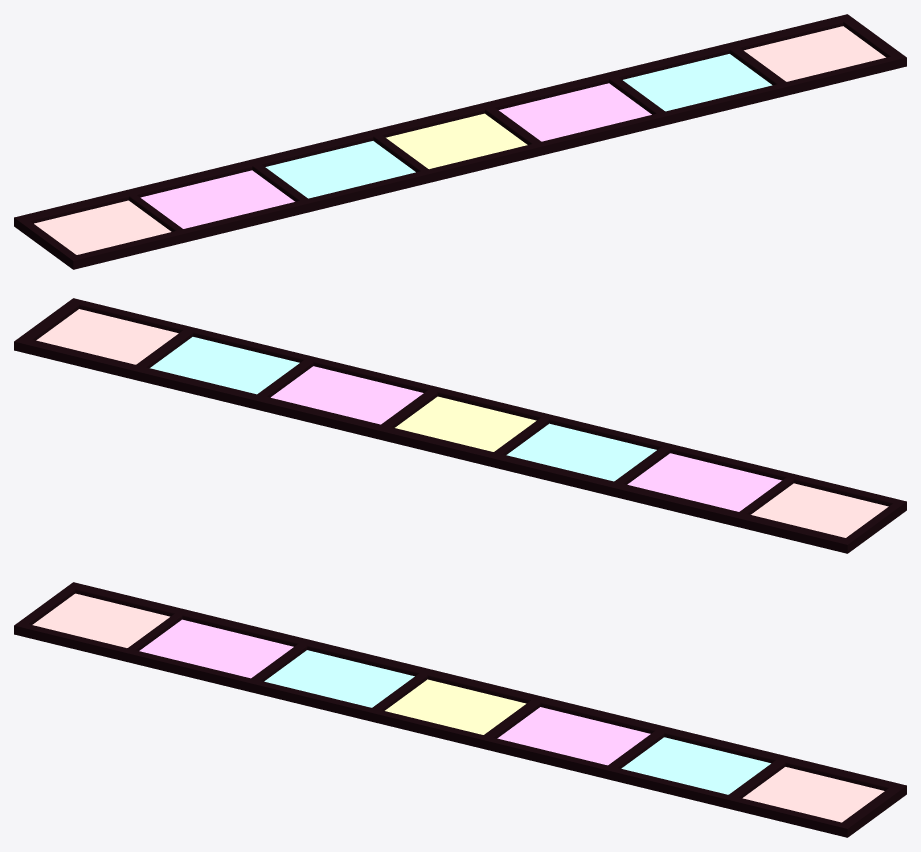
File: ColoredFloor.fbx
3 renders of one model, top to bottom at view 1: azimuth 30°, elevation 25°; view 2: azimuth 150°, elevation 25°; view 3: azimuth 330°, elevation 25°, orthographic.
Parts seen in each view (by area): view 1: Plane; view 2: Plane; view 3: Plane.
Boxes of the visible parts, bbox=[...] form: Plane: bbox=[14, 14, 906, 269]; Plane: bbox=[14, 298, 906, 553]; Plane: bbox=[14, 582, 906, 837].
Bounding box in the file's own units: 663 × 6.77 × 81.79.
